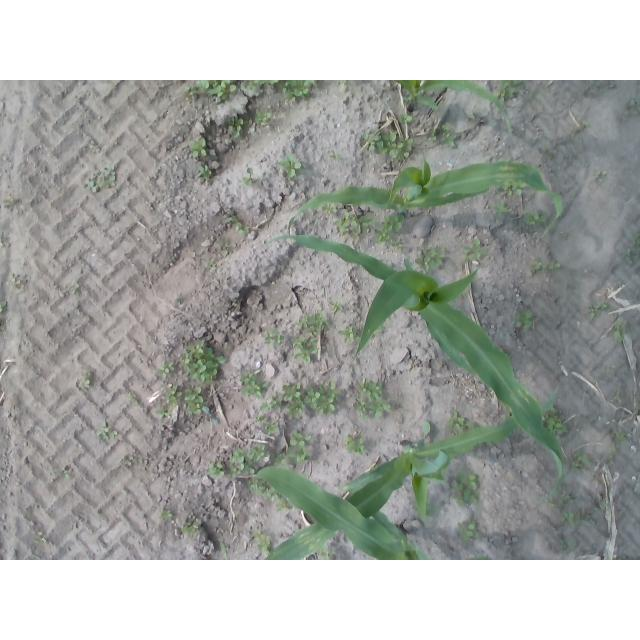Maize: (266, 237, 565, 508), (263, 384, 558, 561), (287, 145, 566, 239), (255, 465, 429, 560), (396, 81, 514, 139), (219, 538, 229, 560)
Weeds: (154, 338, 226, 383), (260, 381, 341, 420), (156, 383, 204, 422), (349, 377, 392, 420), (363, 127, 417, 161), (228, 441, 268, 475), (374, 212, 405, 253), (183, 80, 237, 101), (82, 163, 119, 193), (335, 211, 376, 238), (454, 469, 481, 508), (239, 369, 271, 400), (287, 428, 313, 463), (292, 332, 320, 364), (416, 242, 447, 270), (282, 80, 316, 105), (445, 408, 477, 433), (461, 239, 490, 266), (295, 310, 330, 331), (513, 306, 543, 328), (226, 115, 251, 141), (281, 152, 304, 180), (617, 96, 640, 124), (257, 416, 282, 441), (252, 527, 273, 556), (498, 80, 523, 102), (458, 521, 480, 546), (225, 215, 251, 236), (96, 421, 119, 444), (187, 136, 209, 160), (441, 122, 462, 146), (546, 416, 570, 437), (570, 450, 590, 475), (242, 80, 282, 92), (547, 494, 573, 511), (588, 299, 609, 320), (338, 324, 360, 344), (208, 462, 229, 482), (345, 434, 365, 455), (263, 329, 286, 347), (580, 506, 597, 530), (500, 183, 529, 197), (27, 523, 48, 542), (255, 109, 274, 129), (217, 239, 238, 257), (77, 370, 95, 391), (194, 166, 215, 183), (492, 202, 513, 219), (559, 511, 578, 529), (418, 421, 431, 447), (615, 318, 628, 343), (243, 166, 258, 187), (53, 467, 77, 480), (557, 538, 579, 552), (527, 212, 550, 225), (3, 198, 21, 214), (624, 249, 640, 266), (182, 520, 199, 536), (249, 479, 266, 494), (538, 148, 557, 161), (609, 430, 629, 442), (606, 443, 618, 462), (275, 500, 294, 512), (399, 112, 414, 126), (318, 546, 333, 560), (9, 275, 23, 290), (330, 300, 346, 313), (266, 490, 283, 502), (158, 510, 174, 522), (329, 149, 341, 164), (320, 204, 340, 213), (273, 454, 288, 466), (202, 259, 215, 272), (339, 81, 350, 96), (531, 261, 542, 276), (594, 170, 606, 182), (129, 391, 140, 404), (633, 229, 640, 248), (71, 284, 82, 296), (548, 260, 560, 271), (614, 390, 622, 406), (428, 129, 437, 143), (570, 126, 579, 138), (561, 232, 571, 241), (600, 499, 608, 509), (580, 121, 588, 130), (0, 323, 6, 334), (403, 94, 411, 102), (568, 283, 576, 290), (610, 363, 618, 370), (551, 405, 558, 413), (0, 302, 4, 315), (233, 299, 238, 306)
